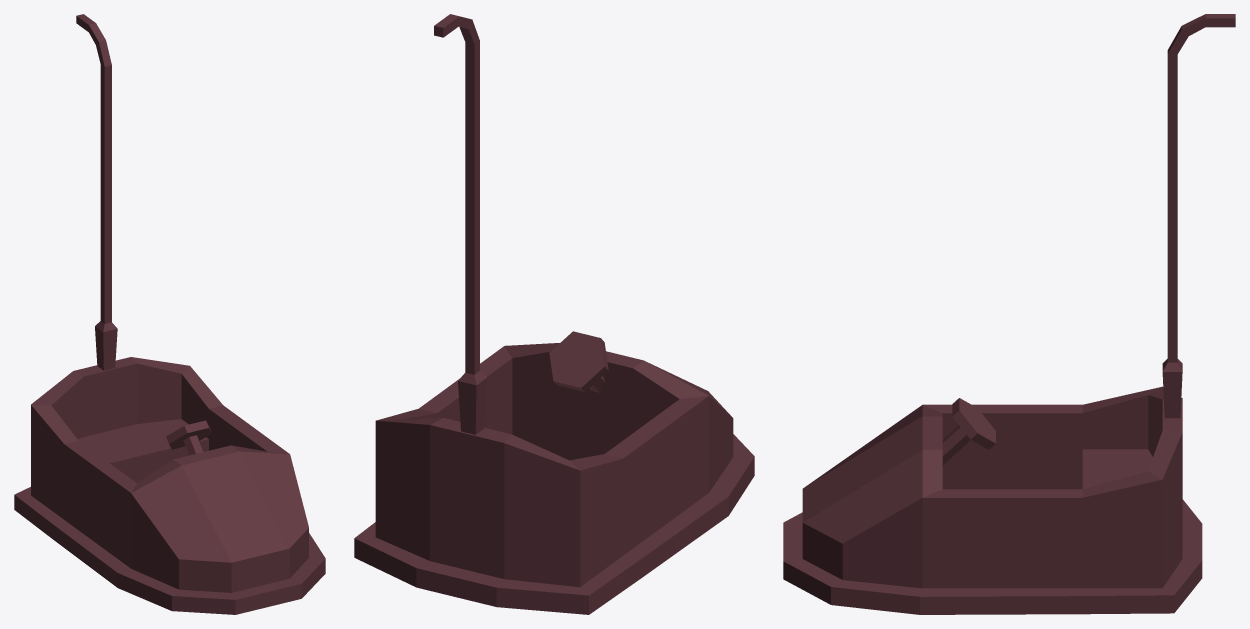
File: bumper-car.fbx
3 renders of one model, left to right at view 1: azimuth 30°, elevation 25°; view 2: azimuth 150°, elevation 25°; view 3: azimuth 270°, elevation 25°, orthographic. The views are drawn at different scales.
Visible parts, largest first — view 1: bumper-car; view 2: bumper-car; view 3: bumper-car.
Part boxes in pixels (box(x1,y1,x2,y2)): bumper-car: box(14, 14, 325, 614); bumper-car: box(354, 14, 754, 614); bumper-car: box(783, 14, 1235, 614).
Bounding box in the file's own units: 1.3 × 3 × 2.26.
